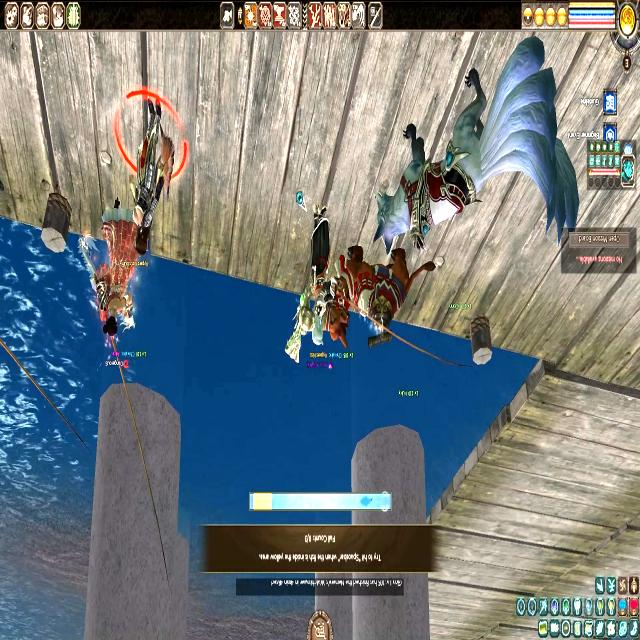fishes: (360, 495, 373, 508)
